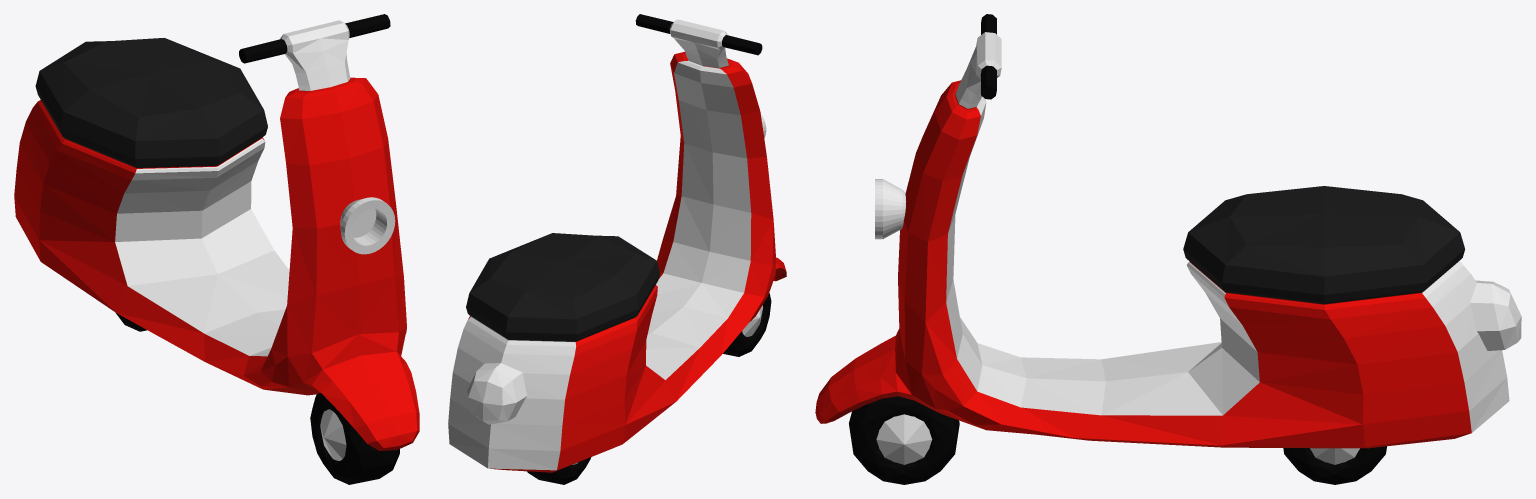
Rendered from moto.fbx.
3 renders of one model, left to right at view 1: azimuth 30°, elevation 25°; view 2: azimuth 150°, elevation 25°; view 3: azimuth 270°, elevation 25°, orthographic. The views are drawn at different scales.
Visible parts, largest first — view 1: Cube, Cylinder.001, Cylinder.002, Cone.001; view 2: Cube, Cube.001, Cylinder.001, Cylinder; view 3: Cube, Cylinder.001, Cube.001, Cylinder, Cone.001, Cylinder.002.
Part boxes in pixels (x1,y1,x2,y2): Cube: [14, 14, 419, 450]; Cylinder.001: [310, 393, 399, 484]; Cylinder.002: [340, 197, 395, 254]; Cone.001: [320, 409, 346, 460]; Cube: [448, 14, 786, 472]; Cube.001: [467, 363, 526, 424]; Cylinder.001: [723, 293, 771, 356]; Cylinder: [527, 457, 591, 484]; Cube: [815, 14, 1509, 448]; Cylinder.001: [849, 396, 959, 484]; Cube.001: [1470, 280, 1521, 350]; Cylinder: [1283, 446, 1386, 484]; Cone.001: [876, 414, 932, 464]; Cylinder.002: [875, 179, 906, 239].
Size of the model in its own units: 186 by 398 by 589.
